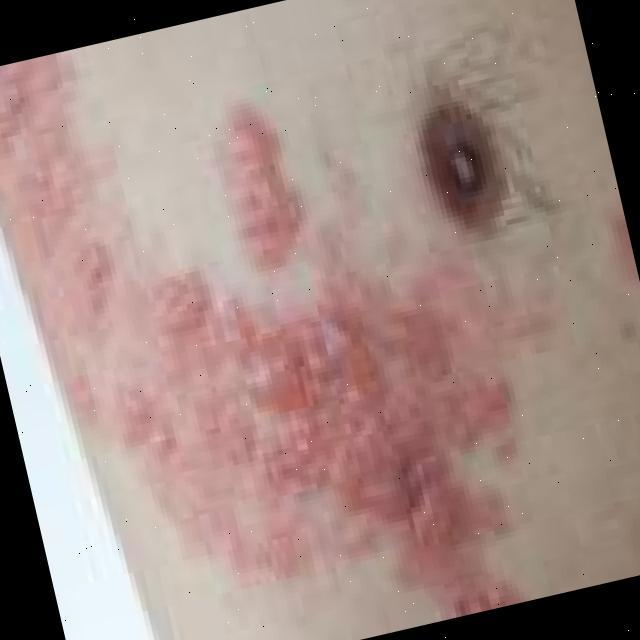Shingles: (0, 58, 516, 609)
